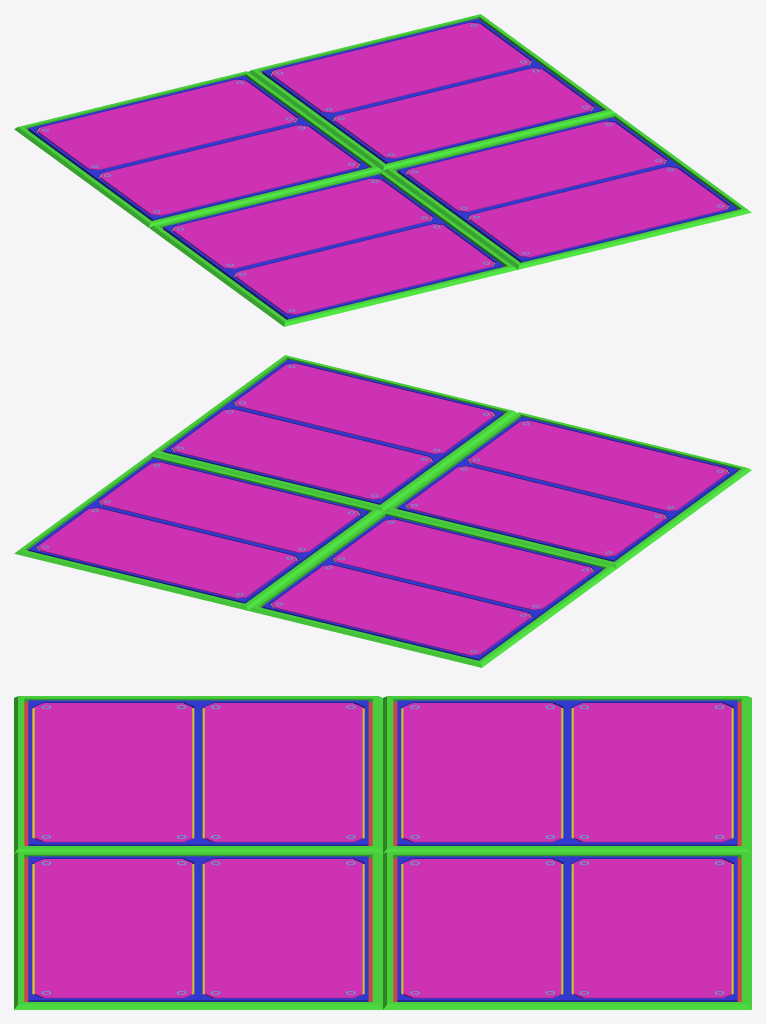
File: Floor_11_A.fbx
The picture shows the model from 3 angles, top to bottom: view 1: azimuth 30°, elevation 25°; view 2: azimuth 150°, elevation 25°; view 3: azimuth 270°, elevation 25°; orthographic projection. The views are drawn at different scales.
Visible parts, largest first — view 1: Floor_11_A; view 2: Floor_11_A; view 3: Floor_11_A.
Boxes of the visible parts, <box> form: Floor_11_A: <box>14,14,751,326</box>; Floor_11_A: <box>14,355,751,667</box>; Floor_11_A: <box>14,696,751,1009</box>.
Bounding box in the file's own units: 457 × 2.69 × 457.
